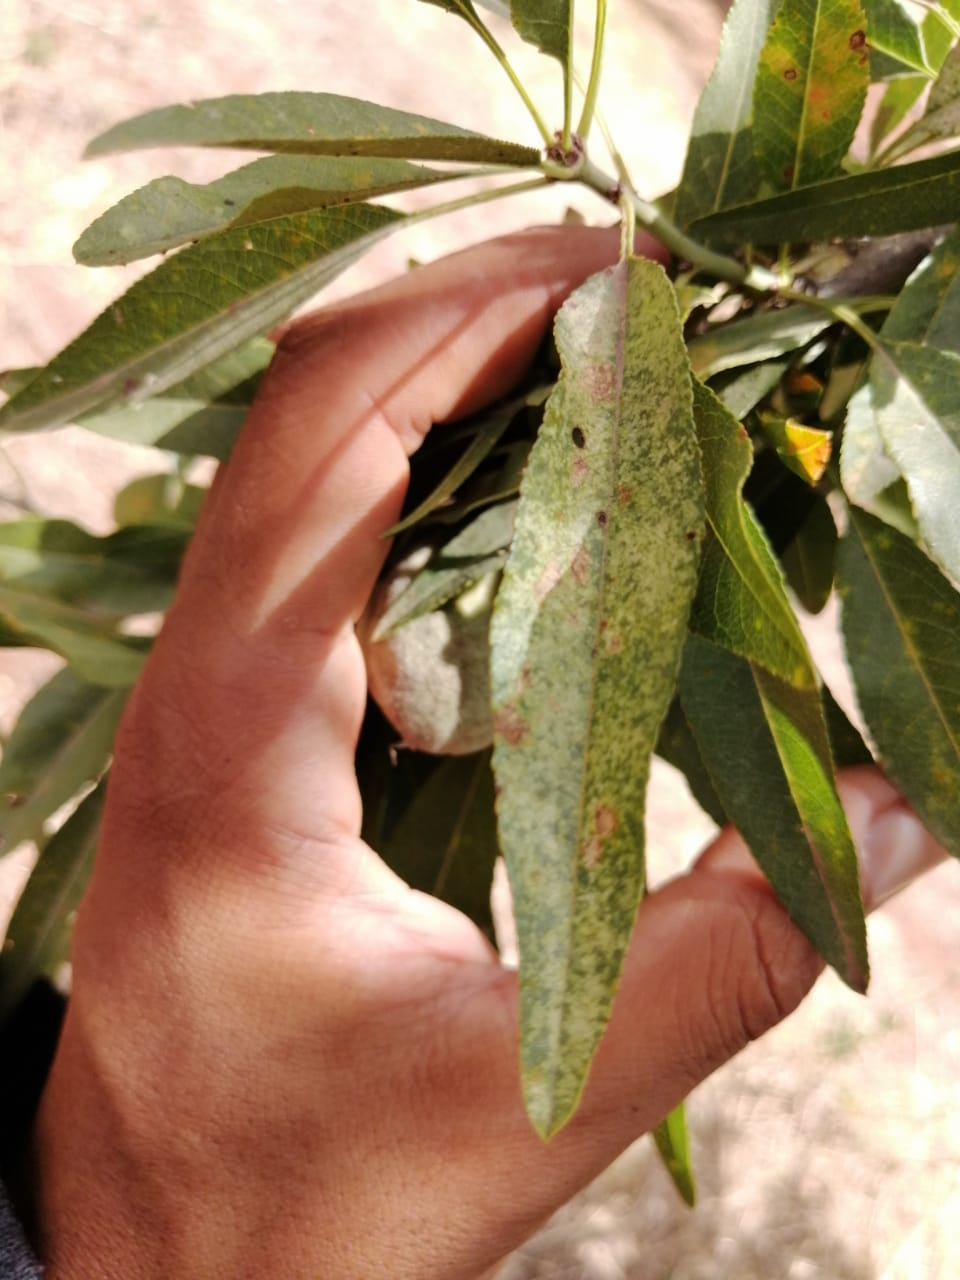faux tigre: (486, 253, 707, 1145)
